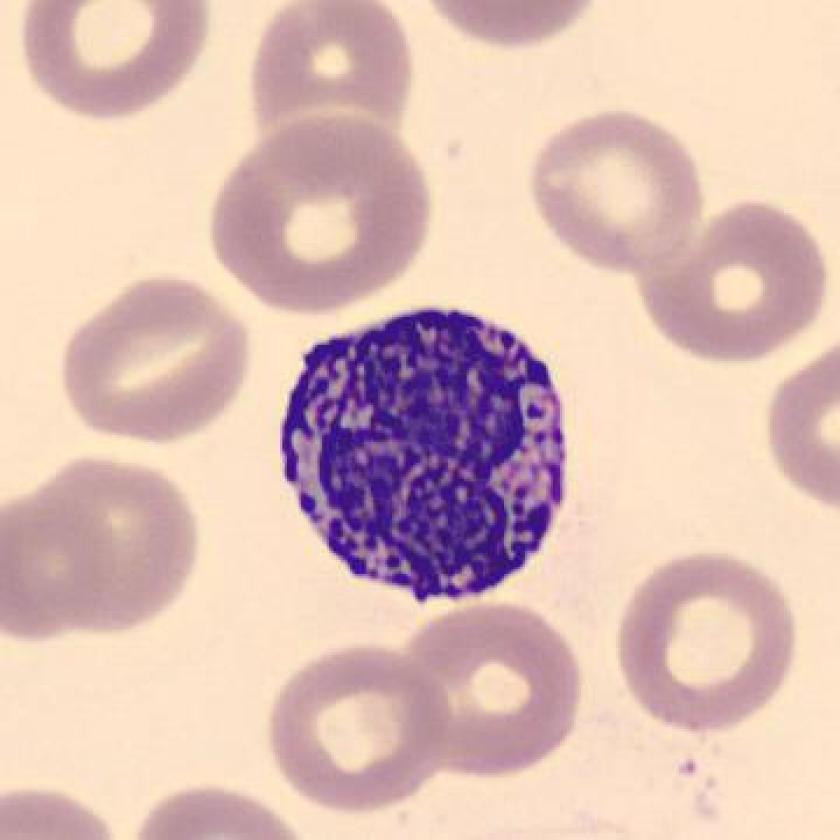basophil: (258, 293, 589, 614)
